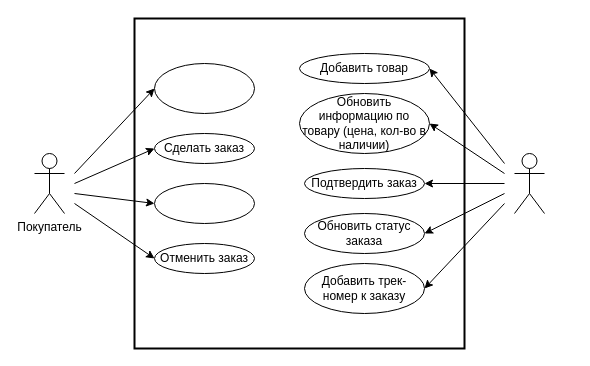
The diagram is 590 pixels wide and 366 high, and some of its shapes have lost their labels. The centre of each missing label's shape, as x and y in pixels:
Администратор магазина: [529,183]
Проверить статус заказа: [204,203]
Просмотреть список товаров: [204,88]
